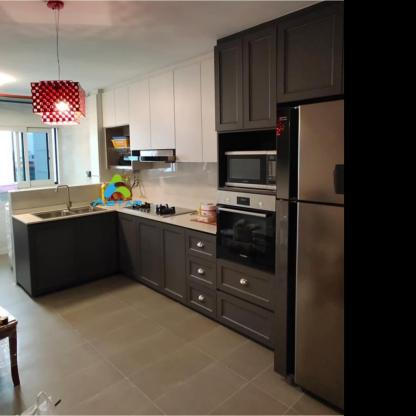Cabinet: (11, 211, 275, 351), (214, 0, 355, 134)
